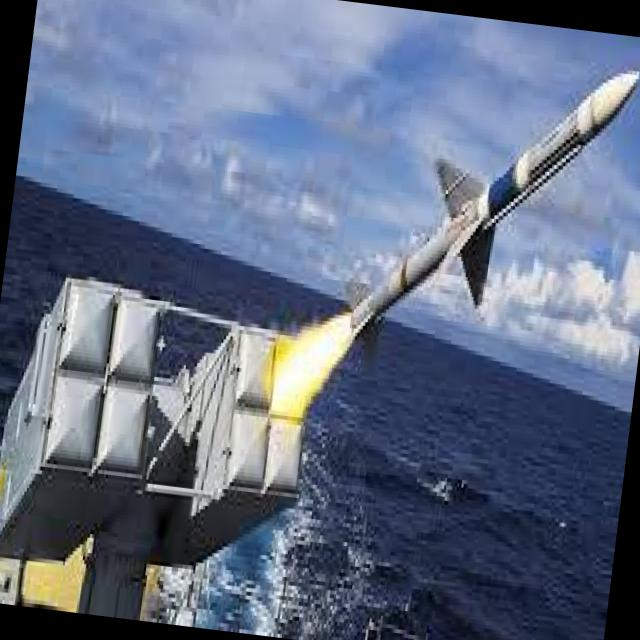rocket: (261, 25, 640, 456)
